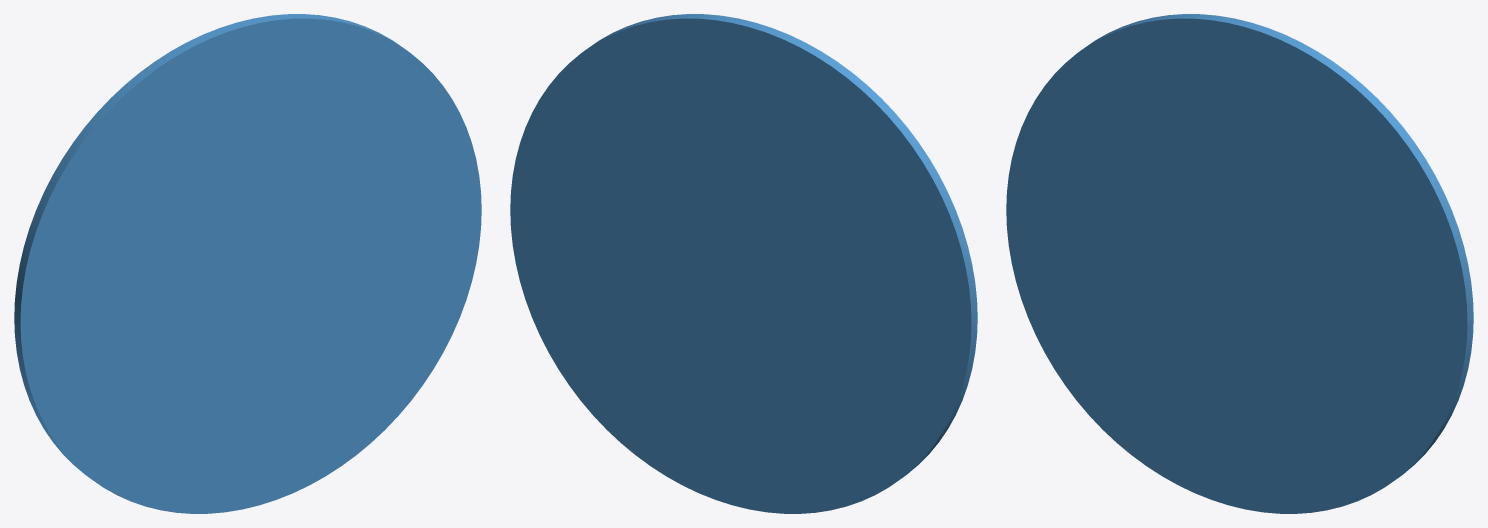
Rendered from 60_disco.glb.
3 renders of one model, left to right at view 1: azimuth 30°, elevation 25°; view 2: azimuth 150°, elevation 25°; view 3: azimuth 330°, elevation 25°, orthographic.
Parts seen in each view (by area): view 1: Part 1; view 2: Part 1; view 3: Part 1.
Boxes of the visible parts, x1,y1,x2,y2 form: Part 1: [14, 14, 481, 513]; Part 1: [510, 14, 977, 513]; Part 1: [1006, 14, 1473, 513].
Bounding box in the file's own units: 60 × 59.96 × 1.4.
